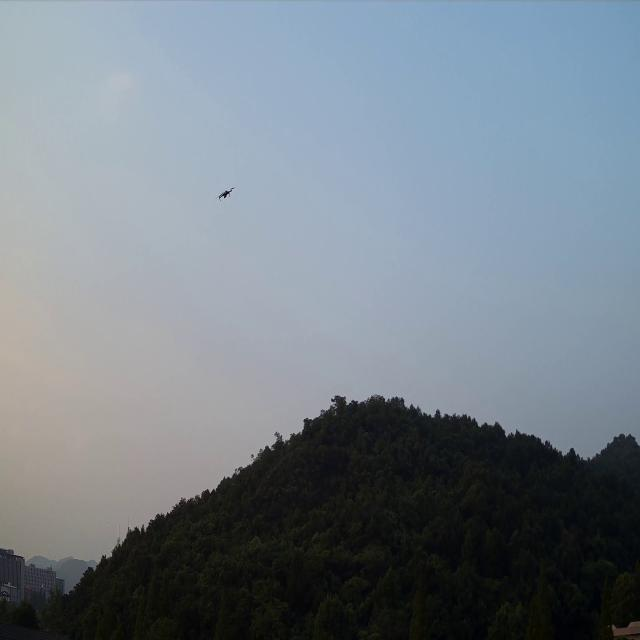UAV: (216, 186, 233, 202)
